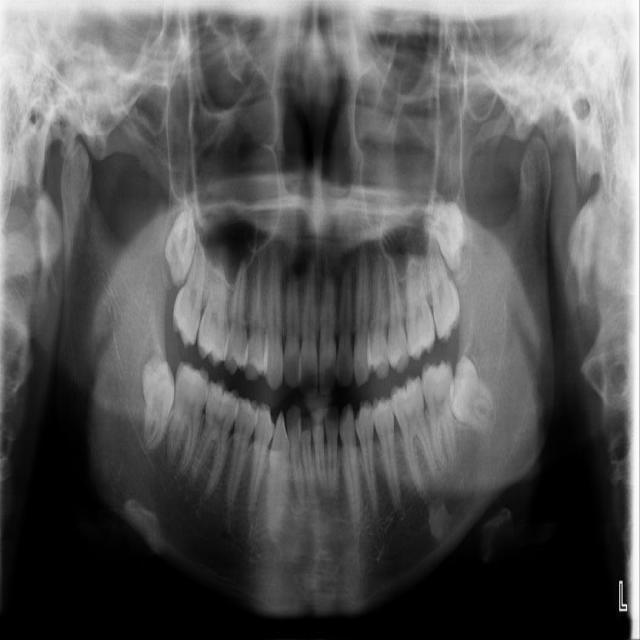impacted tooth: (450, 357, 503, 436), (414, 199, 465, 267), (142, 358, 176, 453), (165, 204, 197, 285)
